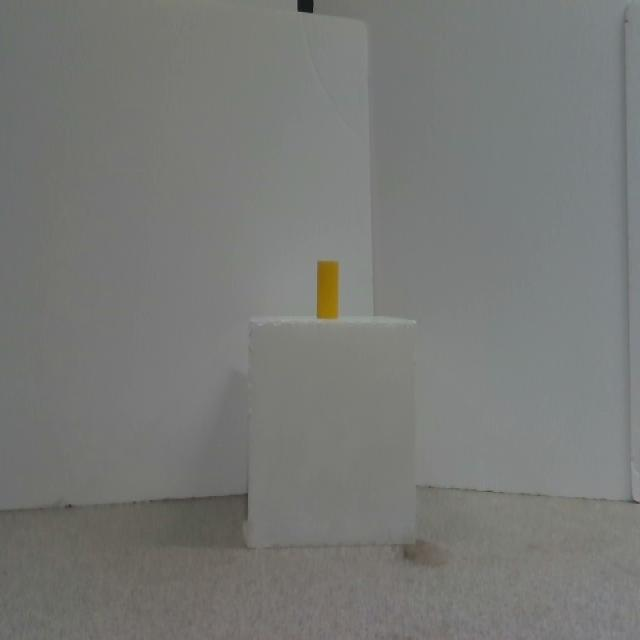yellow_cylinder: (317, 260, 338, 319)
